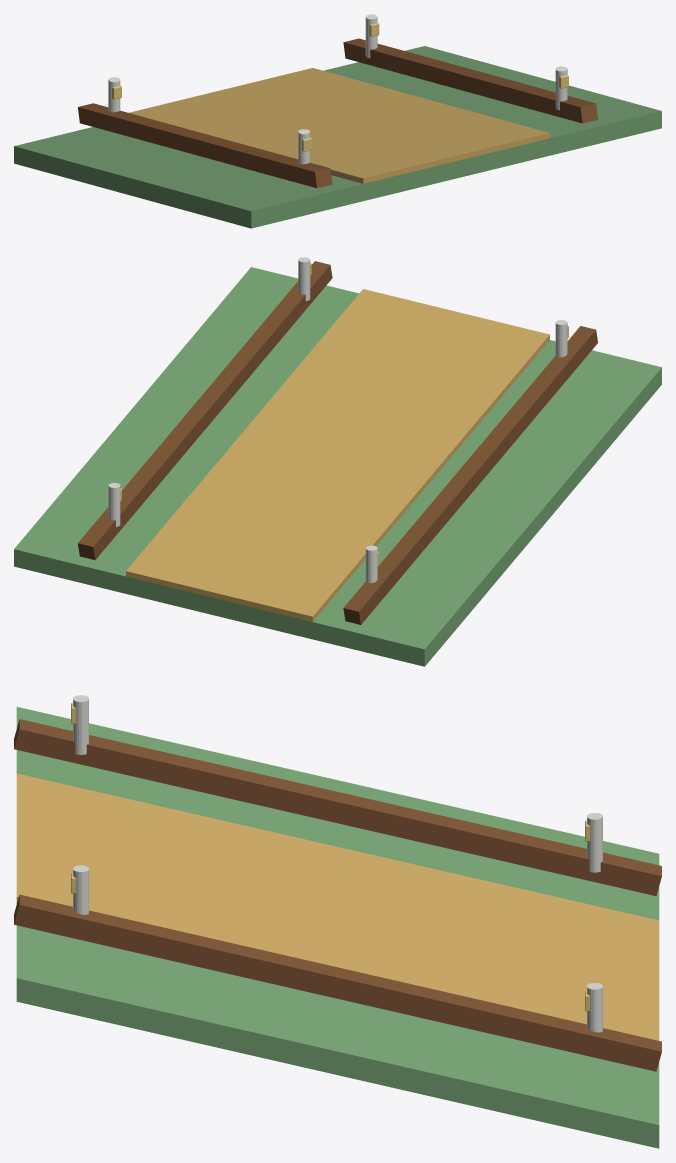
Rendered from ROAD_DIRT_SLOPE_1x1_DOWN_050.glb.
3 renders of one model, top to bottom at view 1: azimuth 30°, elevation 25°; view 2: azimuth 150°, elevation 25°; view 3: azimuth 270°, elevation 25°, orthographic. The views are drawn at different scales.
Visible parts, largest first — view 1: ROAD_DIRT_SLOPE_1x1_DOWN_050_Visual; view 2: ROAD_DIRT_SLOPE_1x1_DOWN_050_Visual; view 3: ROAD_DIRT_SLOPE_1x1_DOWN_050_Visual.
Boxes of the visible parts, <box> form: ROAD_DIRT_SLOPE_1x1_DOWN_050_Visual: <box>14,14,661,228</box>; ROAD_DIRT_SLOPE_1x1_DOWN_050_Visual: <box>14,257,661,666</box>; ROAD_DIRT_SLOPE_1x1_DOWN_050_Visual: <box>14,695,661,1148</box>.
Size of what is drawn, in the model's own units: 1.98 by 0.78 by 2.
